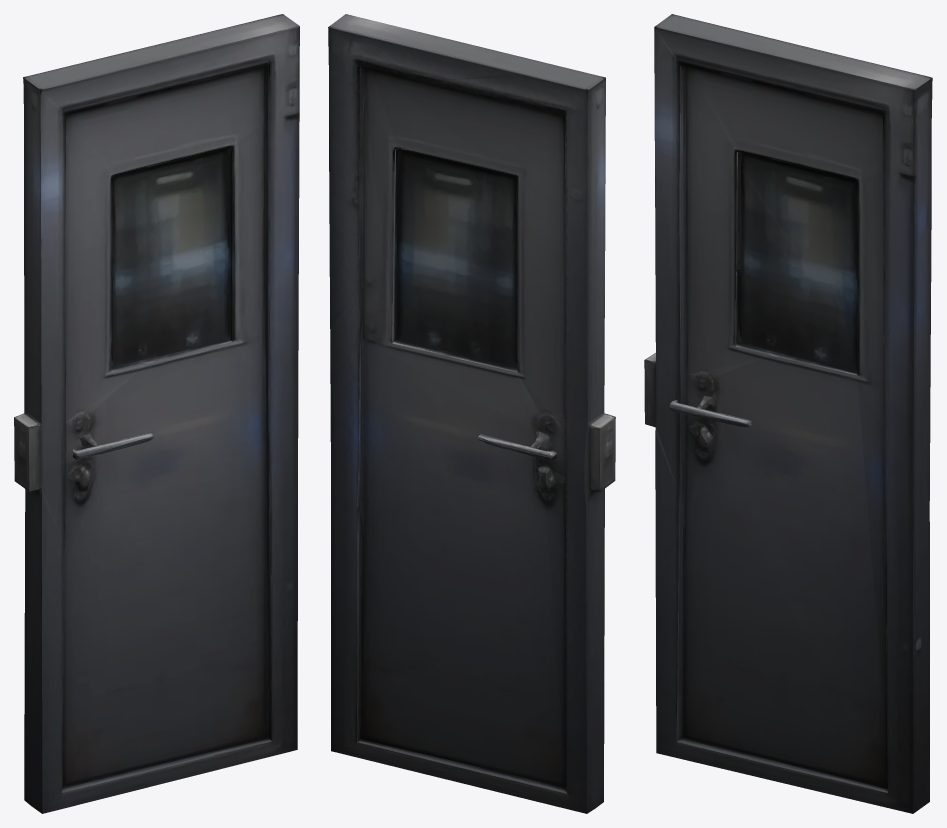
The model's file is metal-door4.glb.
3 renders of one model, left to right at view 1: azimuth 30°, elevation 25°; view 2: azimuth 150°, elevation 25°; view 3: azimuth 330°, elevation 25°, orthographic.
Visible parts, largest first — view 1: geometry_0; view 2: geometry_0; view 3: geometry_0.
Boxes of the visible parts, left/top/right/bottom form: geometry_0: left=14, top=14, right=299, bottom=813; geometry_0: left=328, top=14, right=615, bottom=813; geometry_0: left=644, top=14, right=932, bottom=813.
Bounding box in the file's own units: 0.3913 × 1 × 0.1035.
1 material, 1 textured.
